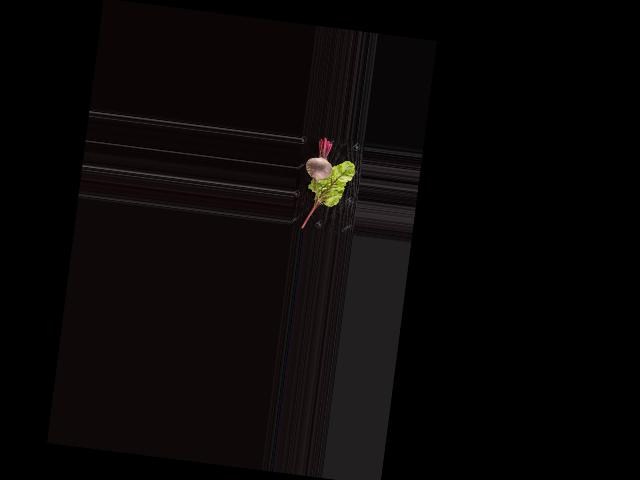beet: (301, 135, 335, 205)
